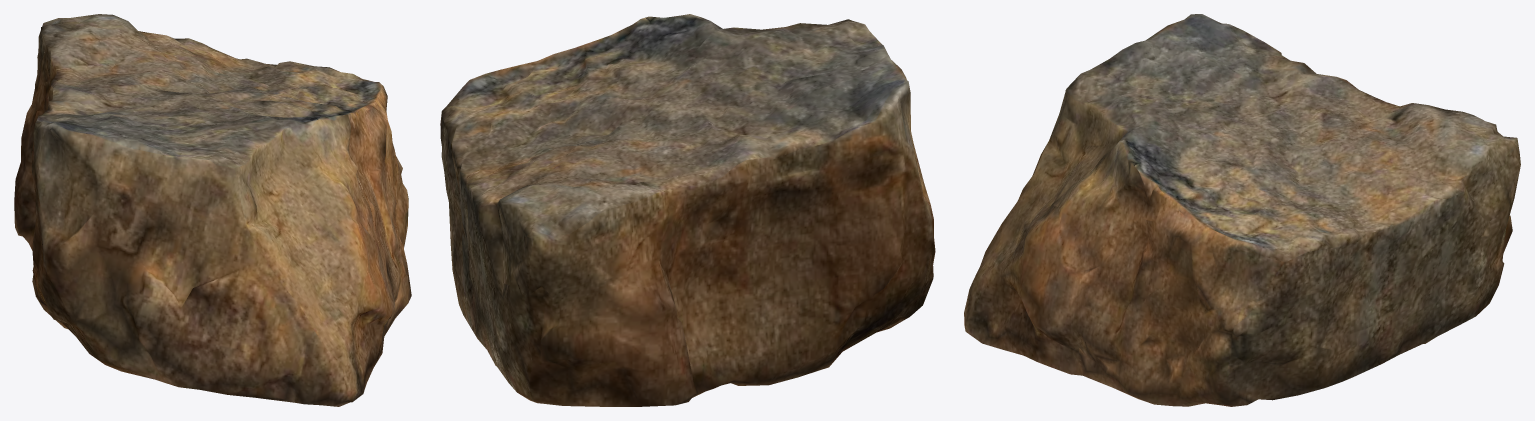
File: rocher-bloc3.glb
3 views of the same model, side by side, from view 1: azimuth 30°, elevation 25°; view 2: azimuth 150°, elevation 25°; view 3: azimuth 270°, elevation 25° (orthographic). The views are drawn at different scales.
Parts seen in each view (by area): view 1: boulder_03_LOD0; view 2: boulder_03_LOD0; view 3: boulder_03_LOD0.
Boxes of the visible parts, x1,y1,x2,y2 form: boulder_03_LOD0: (14, 14, 411, 406); boulder_03_LOD0: (440, 14, 935, 406); boulder_03_LOD0: (964, 14, 1520, 406).
Size of the model in its own units: 2.4 by 1.47 by 3.06.
1 material, 1 textured.
